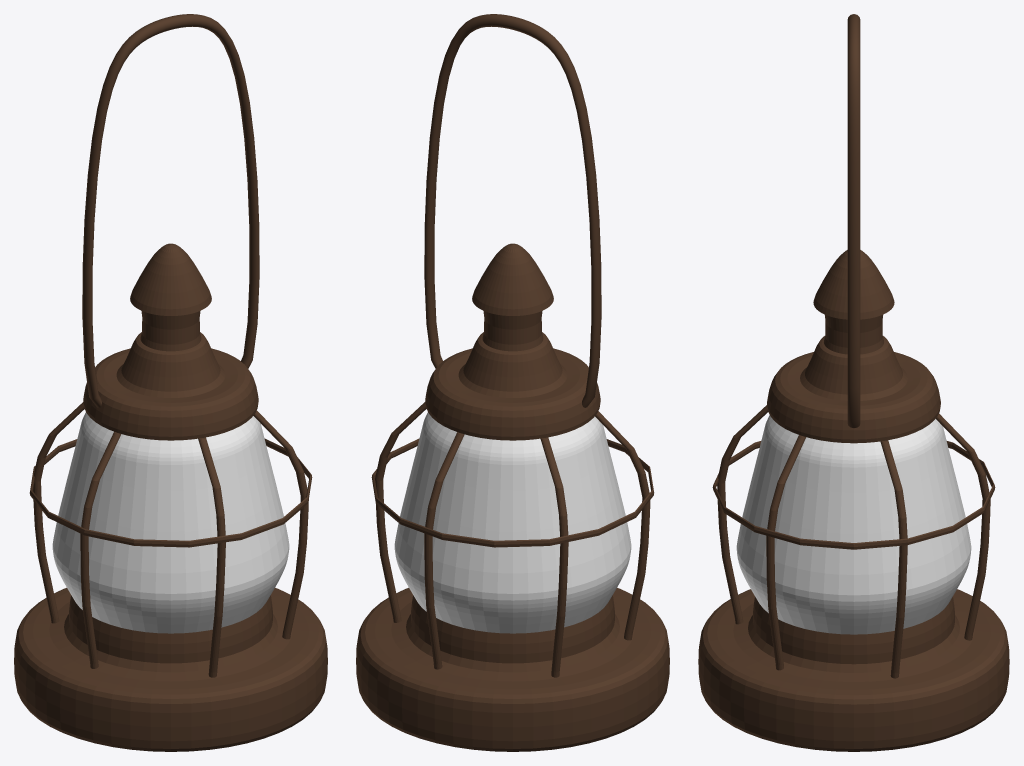
File: env-candle.fbx
The picture shows the model from 3 angles, left to right: view 1: azimuth 30°, elevation 25°; view 2: azimuth 150°, elevation 25°; view 3: azimuth 270°, elevation 25°; orthographic projection.
Visible parts, largest first — view 1: Circle.014; view 2: Circle.014; view 3: Circle.014.
Part boxes in pixels (bbox=[...]): Circle.014: bbox=[14, 14, 327, 751]; Circle.014: bbox=[356, 14, 669, 751]; Circle.014: bbox=[698, 14, 1009, 751].
Size of the model in its own units: 46.72 by 111 by 46.72.
